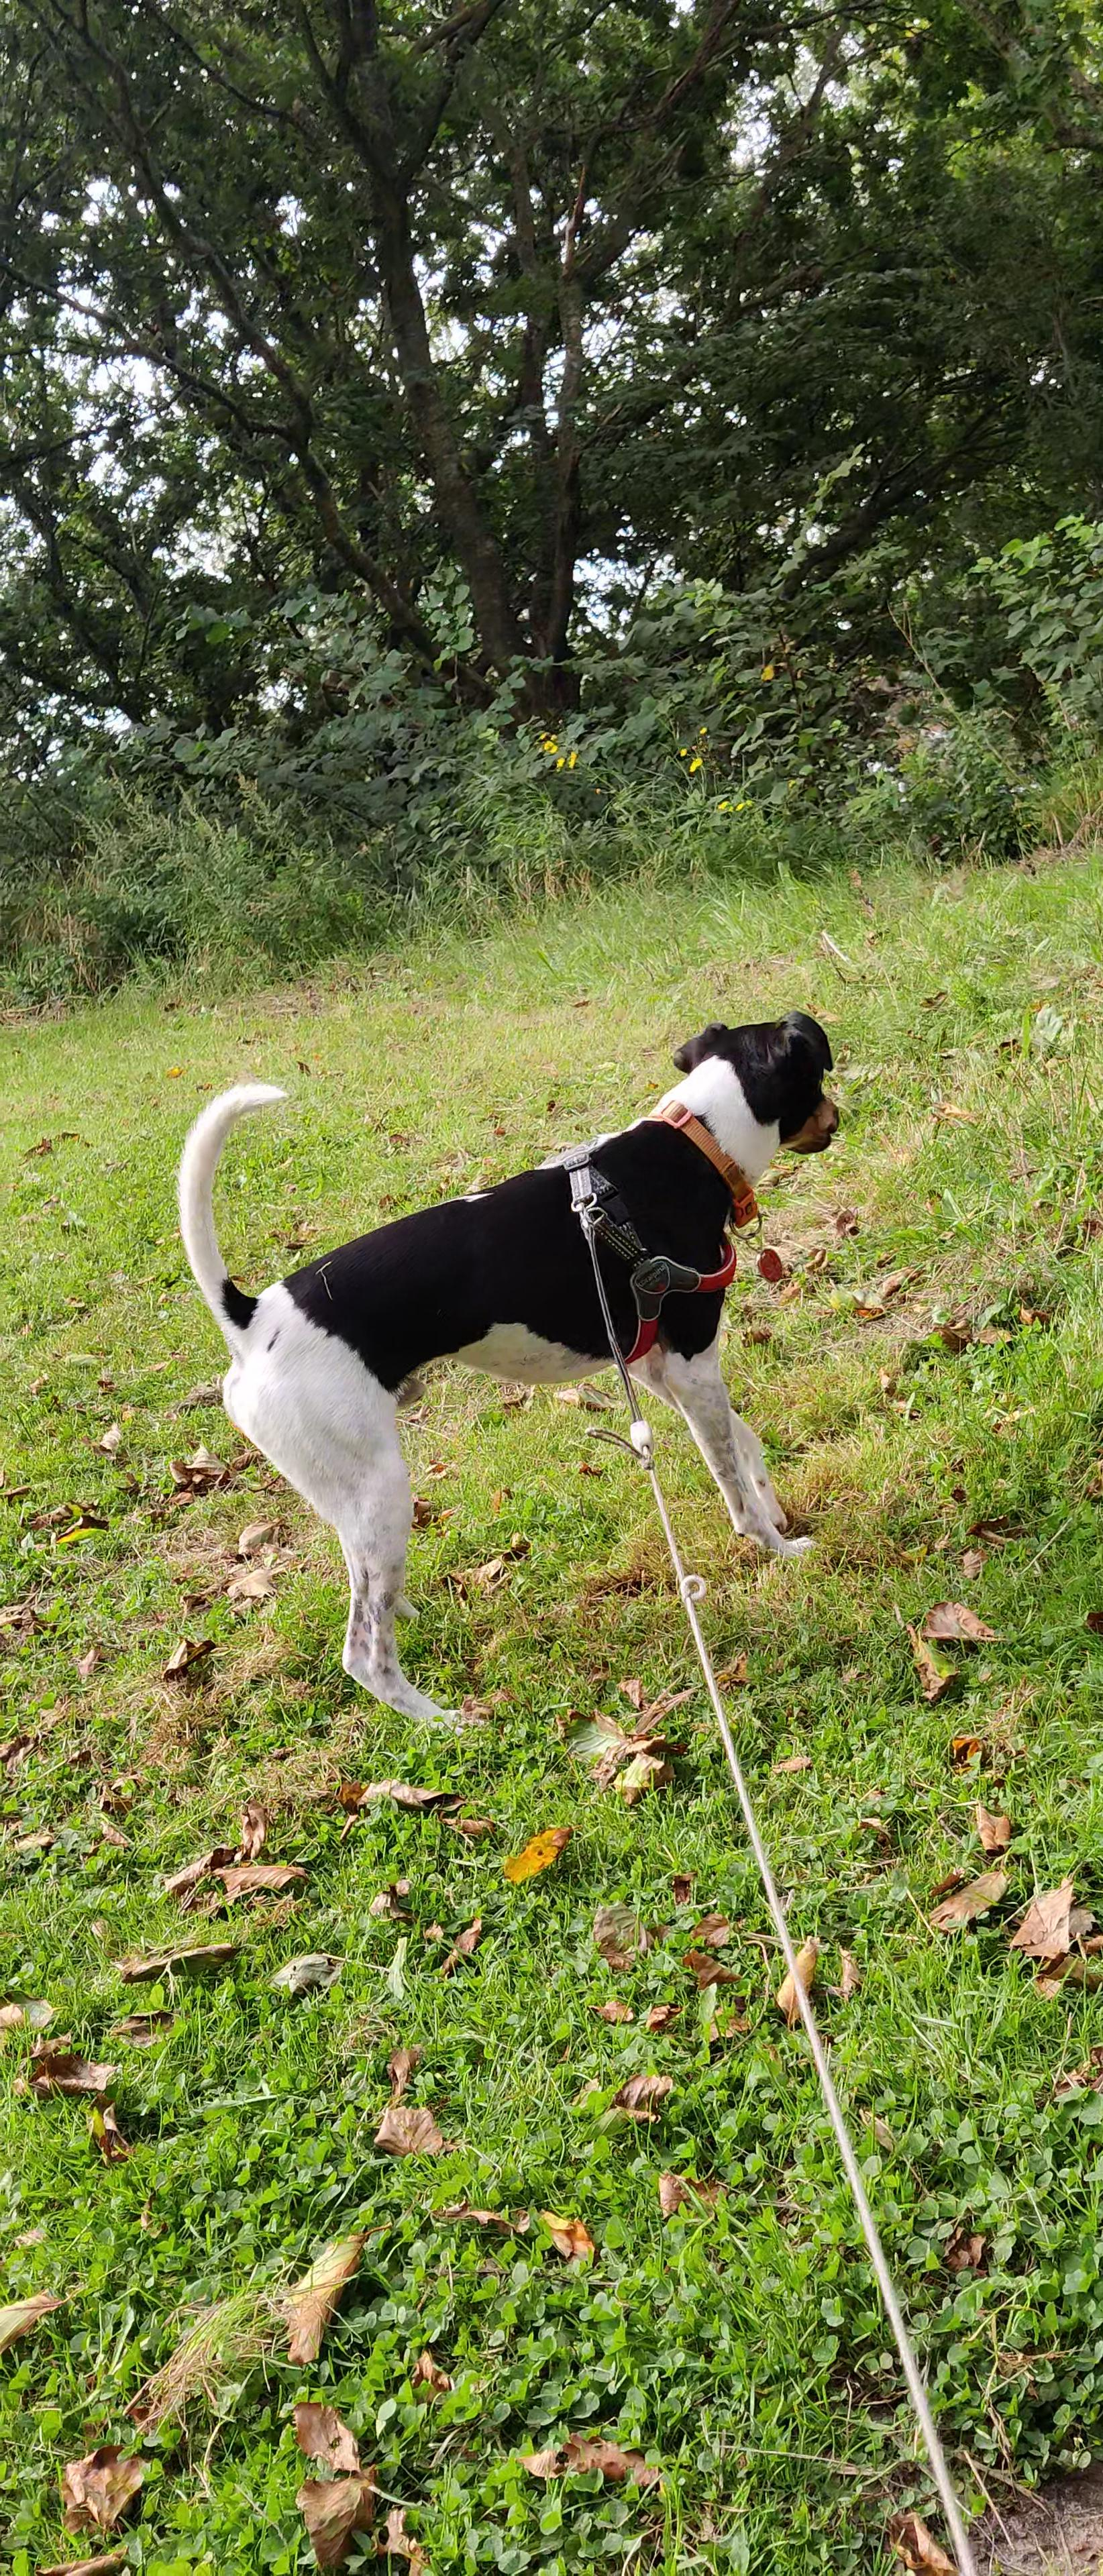Dog: (166, 1004, 851, 1732)
